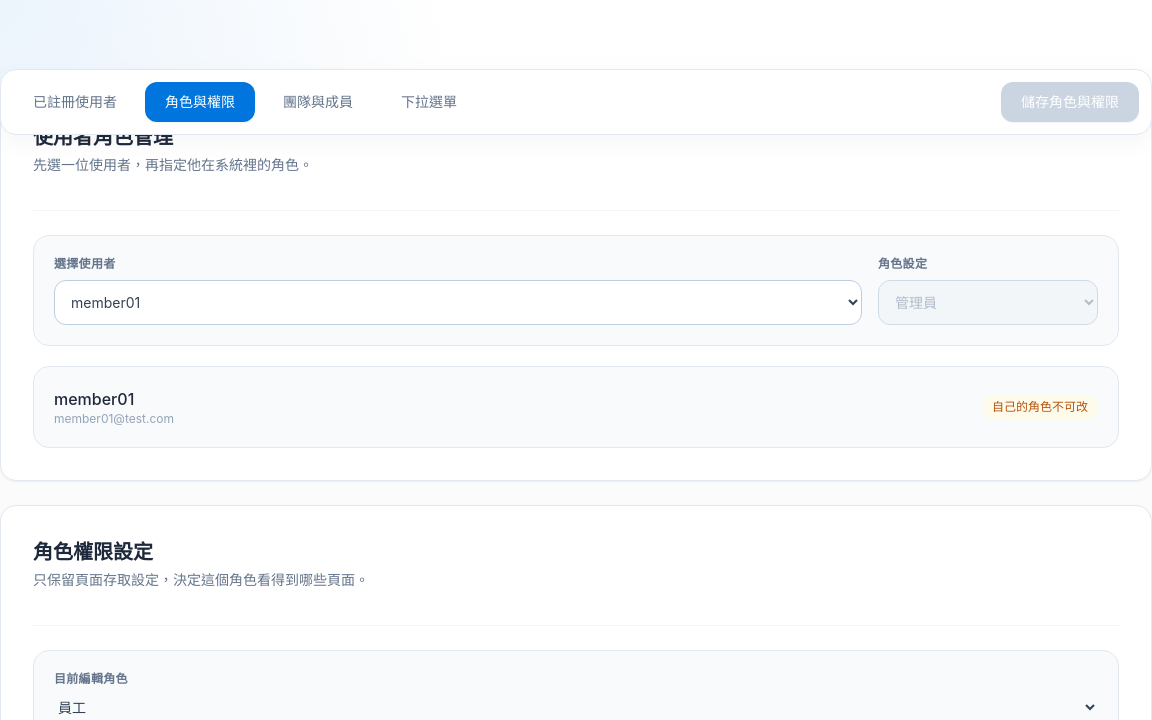
Test: SettingsPage › supports pagination in registered users page when there are many users
Click the button "已註冊使用者" at (75, 102), box [13, 82, 137, 122]
(page scrolled)
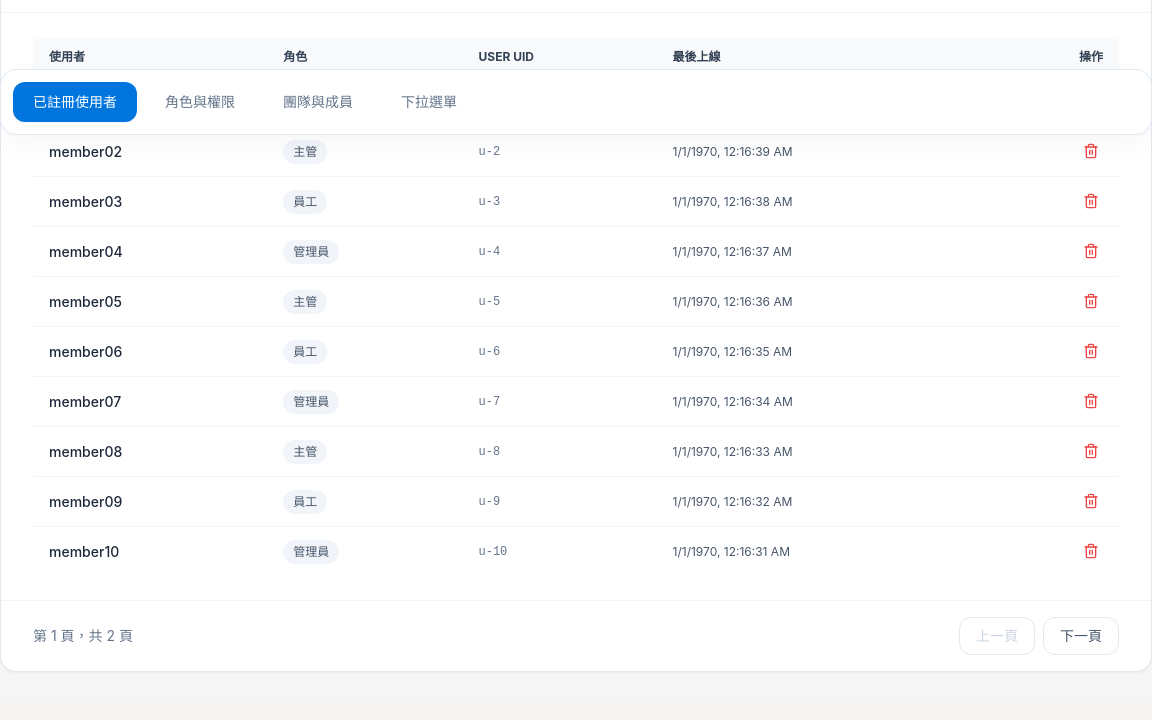
Expected: the text "member01" is shown, [33, 77, 267, 126]
Expected: the text "第 1 頁，共 2 頁" is shown, [33, 626, 133, 646]
Expected: the number of cells with test id "registered-user-name" is 10
Click the button "下一頁" at (1081, 636), box [1043, 617, 1119, 655]
(page scrolled)
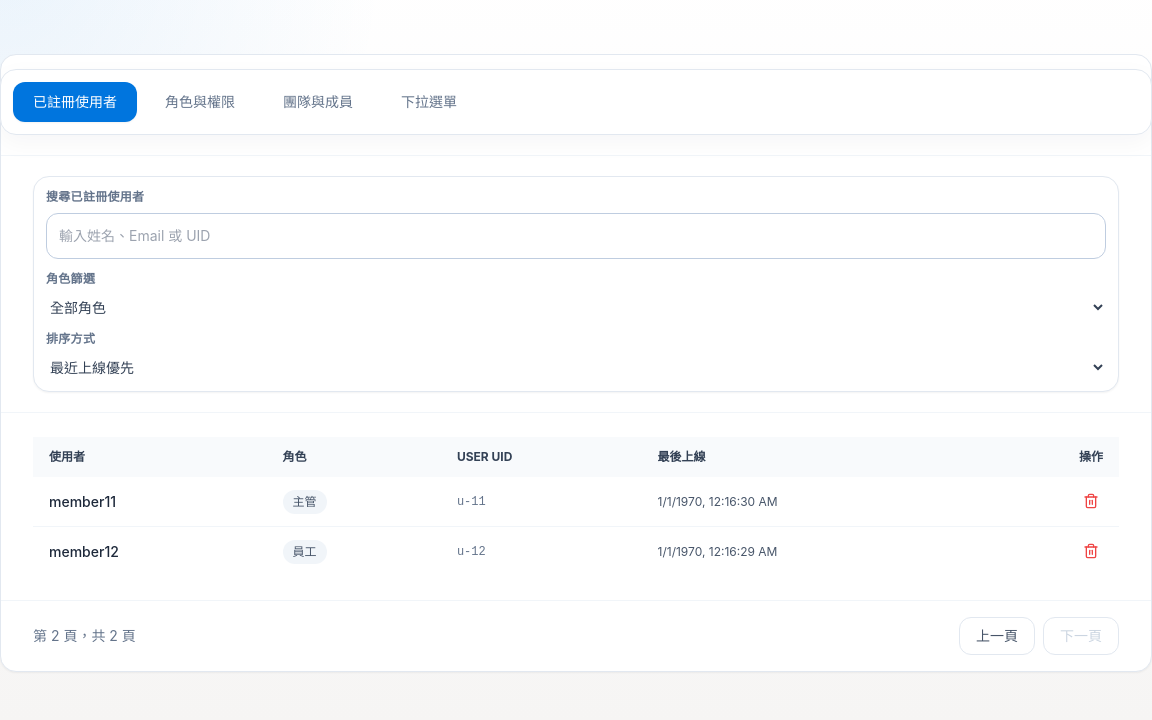
Expected: the text "第 2 頁，共 2 頁" is shown, [33, 626, 136, 646]
Expected: the number of cells with test id "registered-user-name" is 2, [33, 477, 267, 526]; [33, 526, 267, 576]
Expected: the text "member11" is shown, [33, 477, 267, 526]
Click the button "上一頁" at (997, 636), box [959, 617, 1035, 655]
(page scrolled)
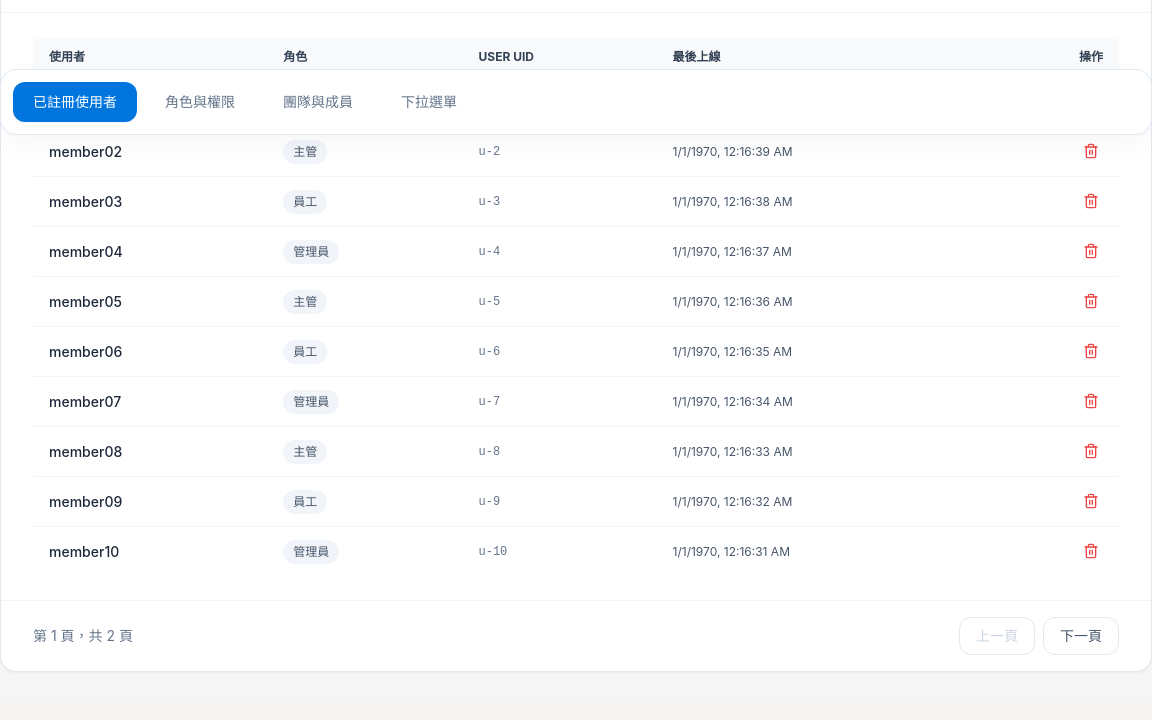
Expected: the text "第 1 頁，共 2 頁" is shown, [33, 626, 133, 646]
